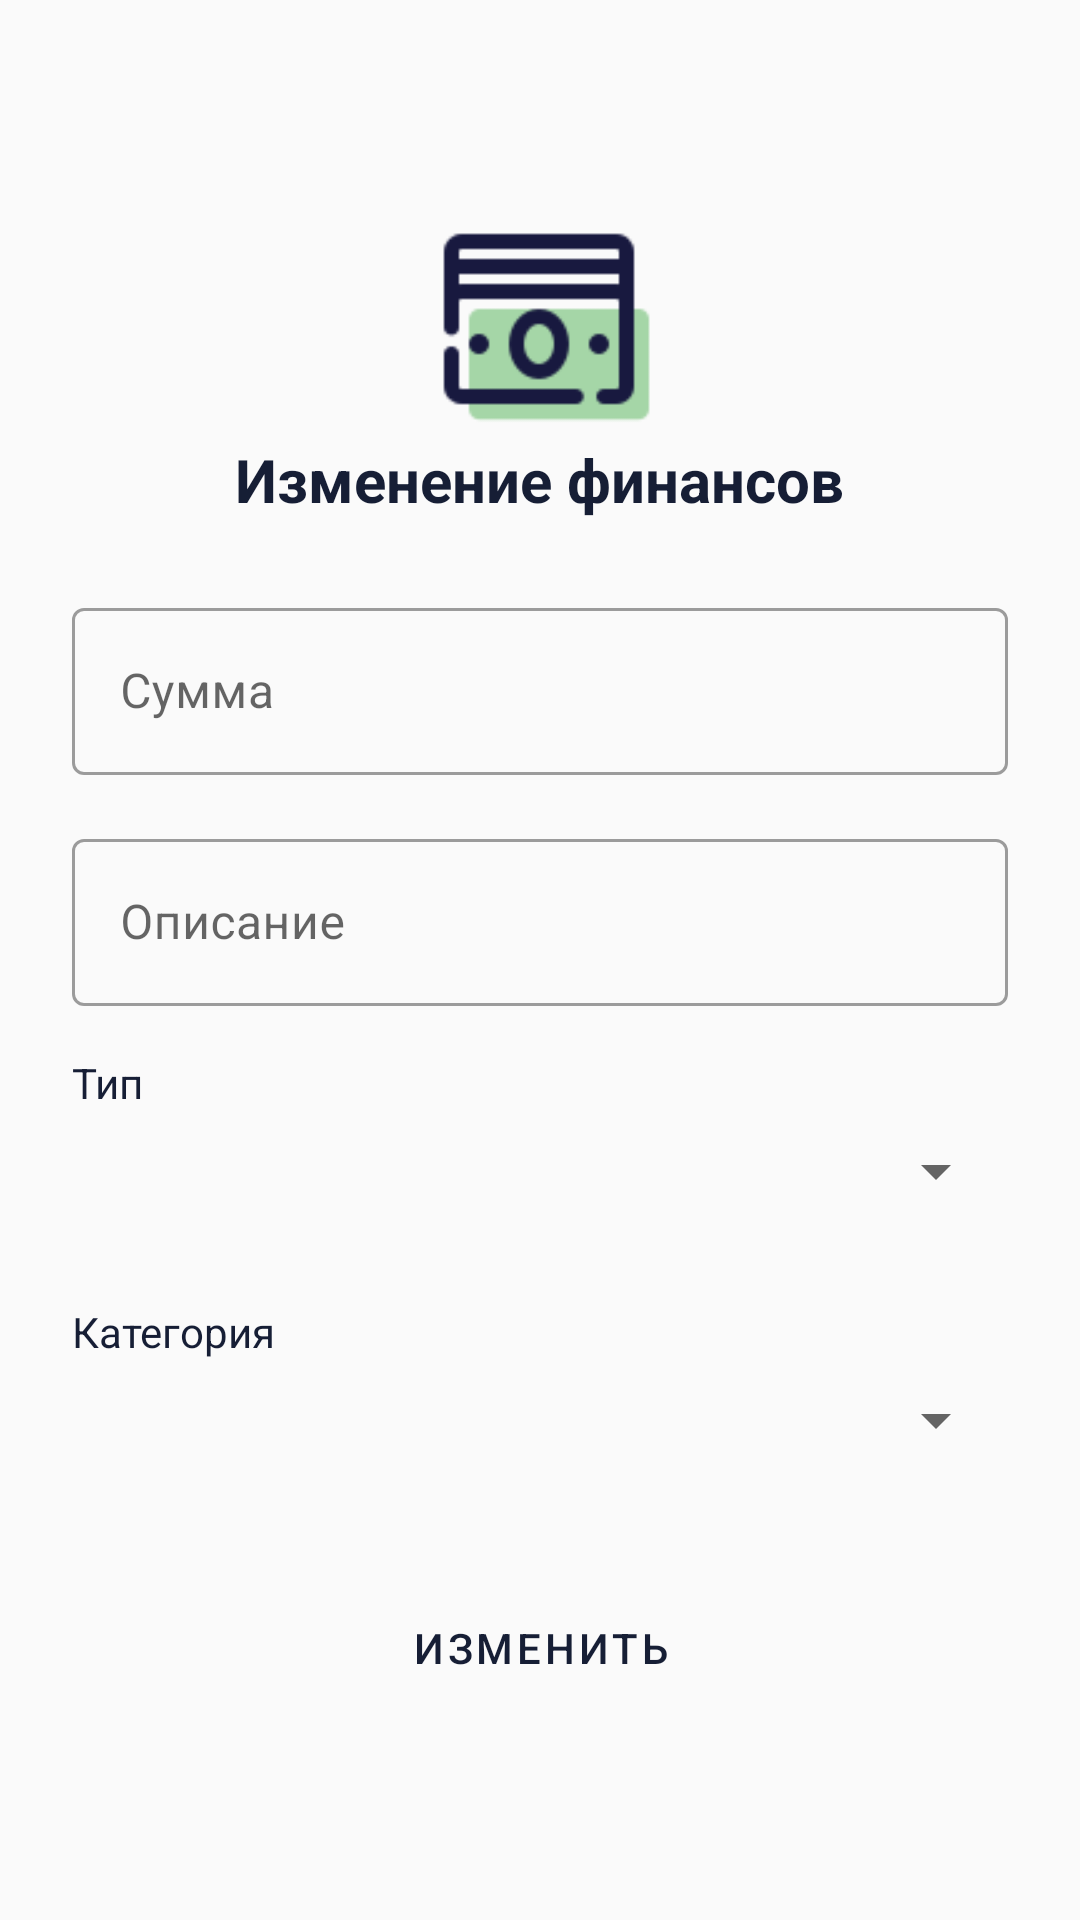

Screen size 1080×1920. Icon name, then its center in pixels as point (x, y):
bill: point (546, 326)
